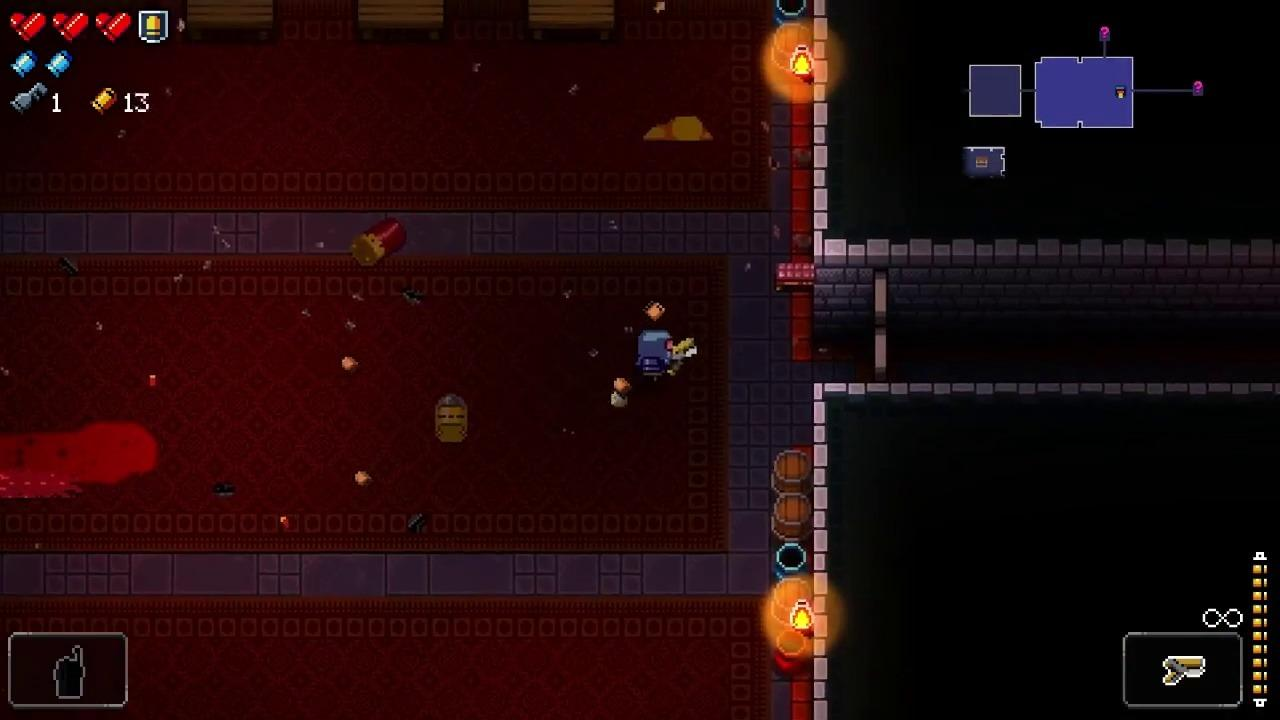dead_apprentice_gunjurer: (644, 117, 714, 140)
dead_bullet_kin: (436, 394, 468, 444)
dead_red_shotgun_kin: (351, 218, 407, 268)
player: (639, 330, 673, 382)
table: (187, 0, 272, 42), (357, 0, 446, 40), (530, 0, 614, 41)
unlocked_door: (873, 265, 888, 384)
